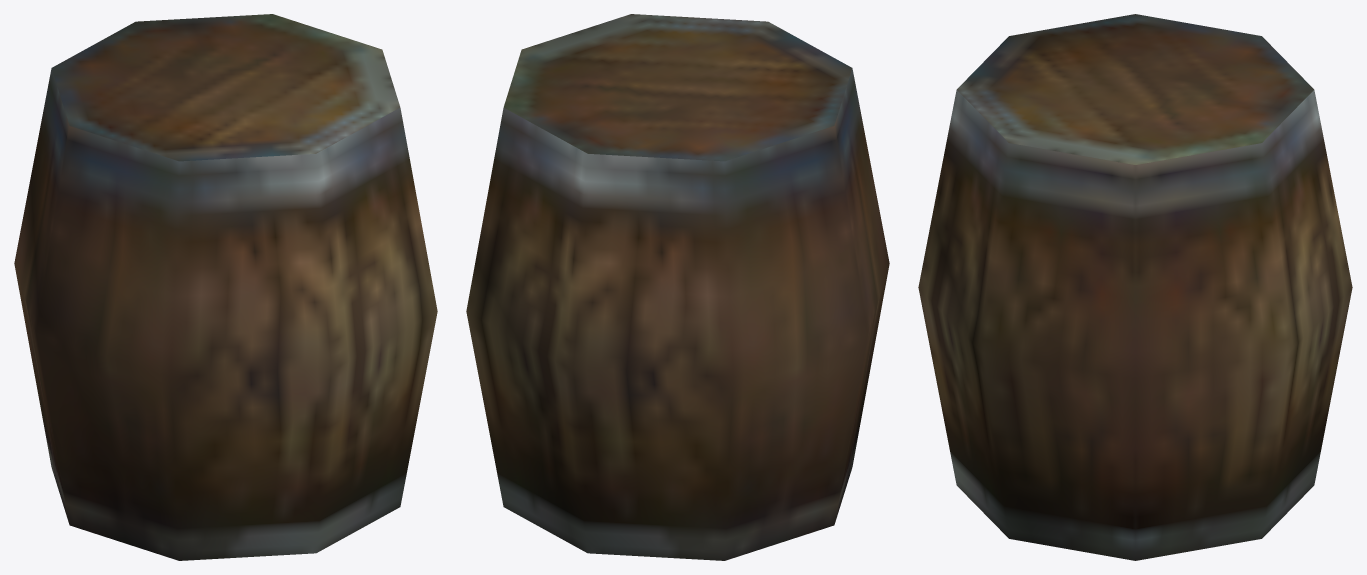
File: barrel_A1.fbx
3 renders of one model, left to right at view 1: azimuth 30°, elevation 25°; view 2: azimuth 150°, elevation 25°; view 3: azimuth 270°, elevation 25°, orthographic.
Visible parts, largest first — view 1: barrel_A1; view 2: barrel_A1; view 3: barrel_A1.
Part boxes in pixels (x1=…): barrel_A1: x1=14, y1=14, x2=437, y2=560; barrel_A1: x1=466, y1=14, x2=889, y2=560; barrel_A1: x1=918, y1=14, x2=1352, y2=560.
Bounding box in the file's own units: 1.42 × 1.43 × 1.42.
